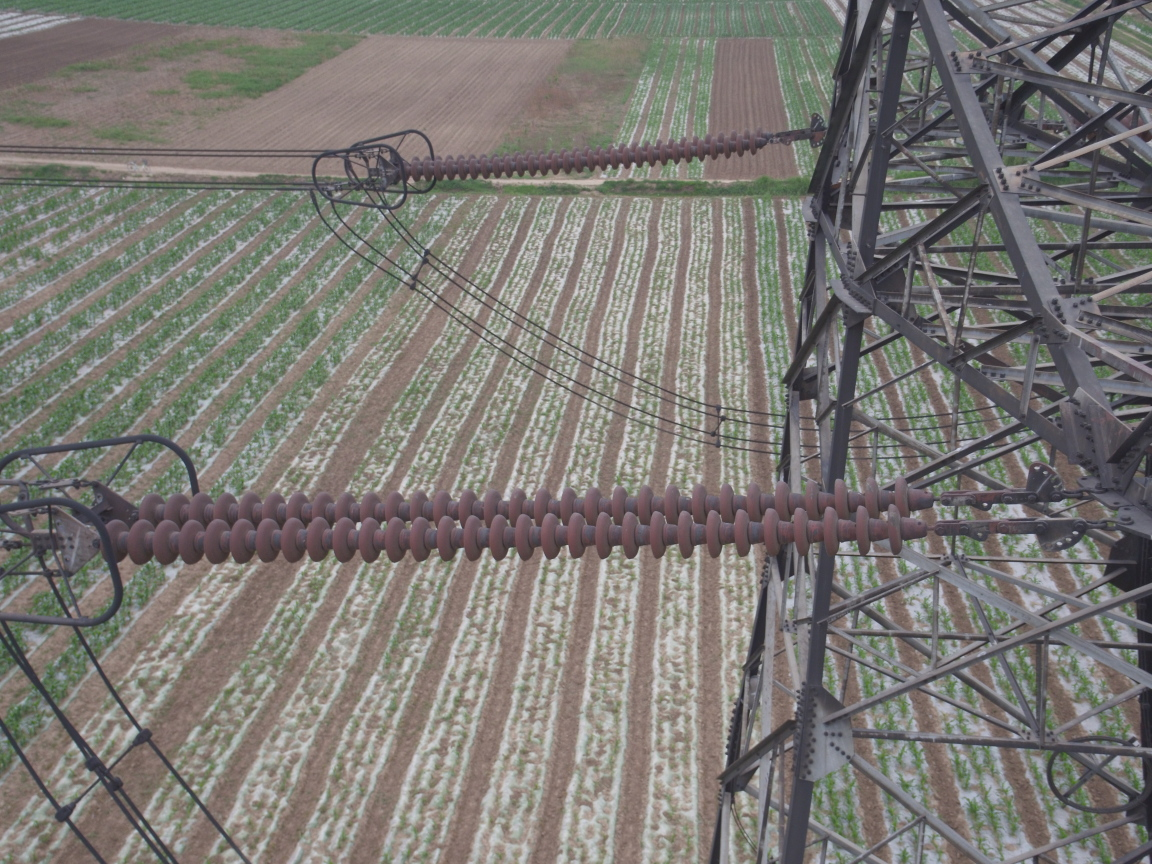insulator: (79, 469, 970, 567), (387, 125, 783, 184)
